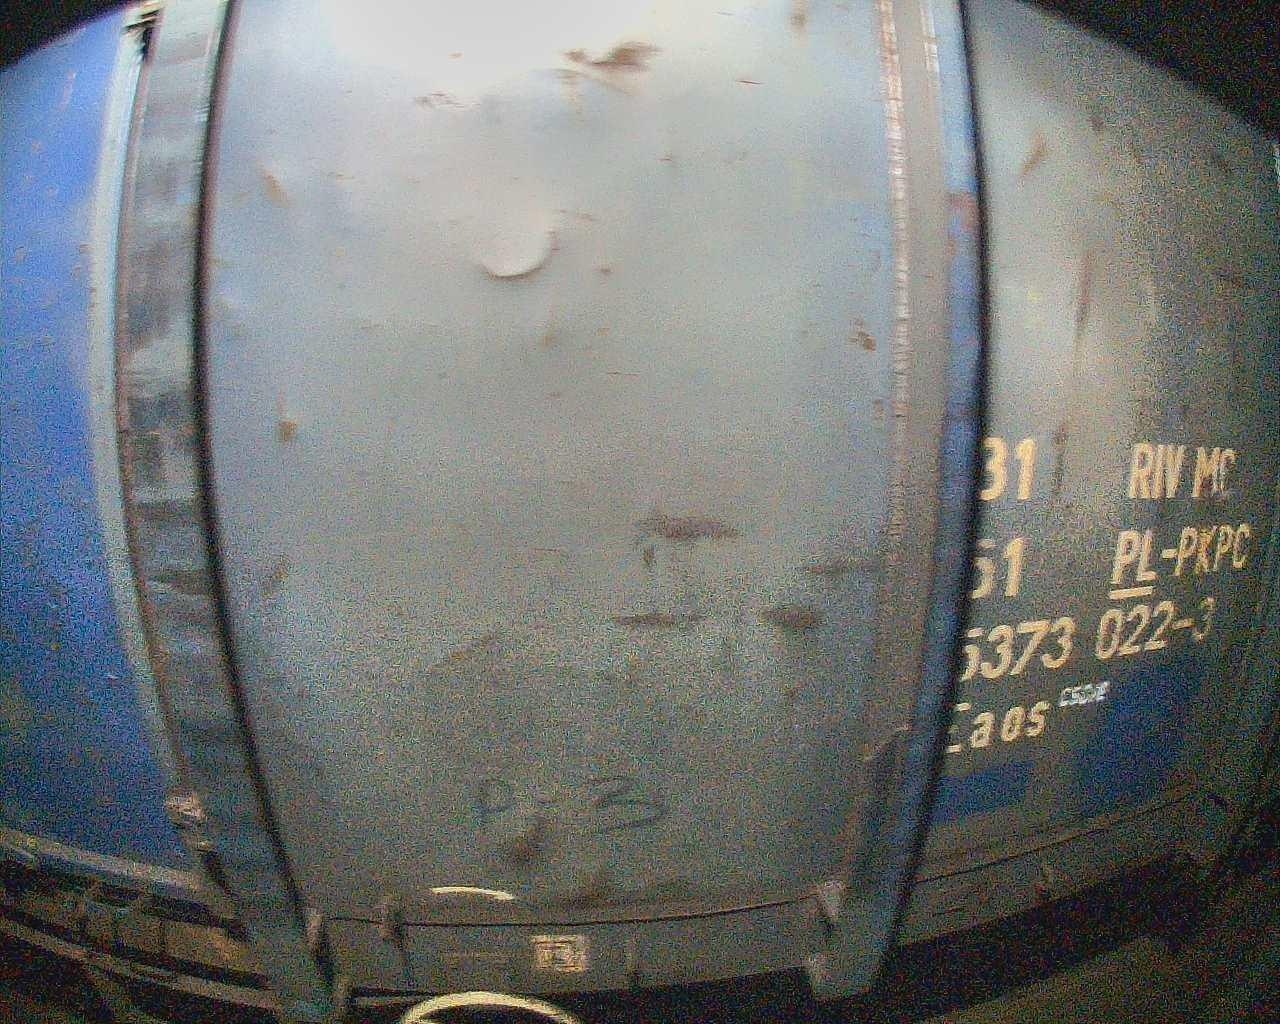UIC: (940, 436, 1251, 762)
